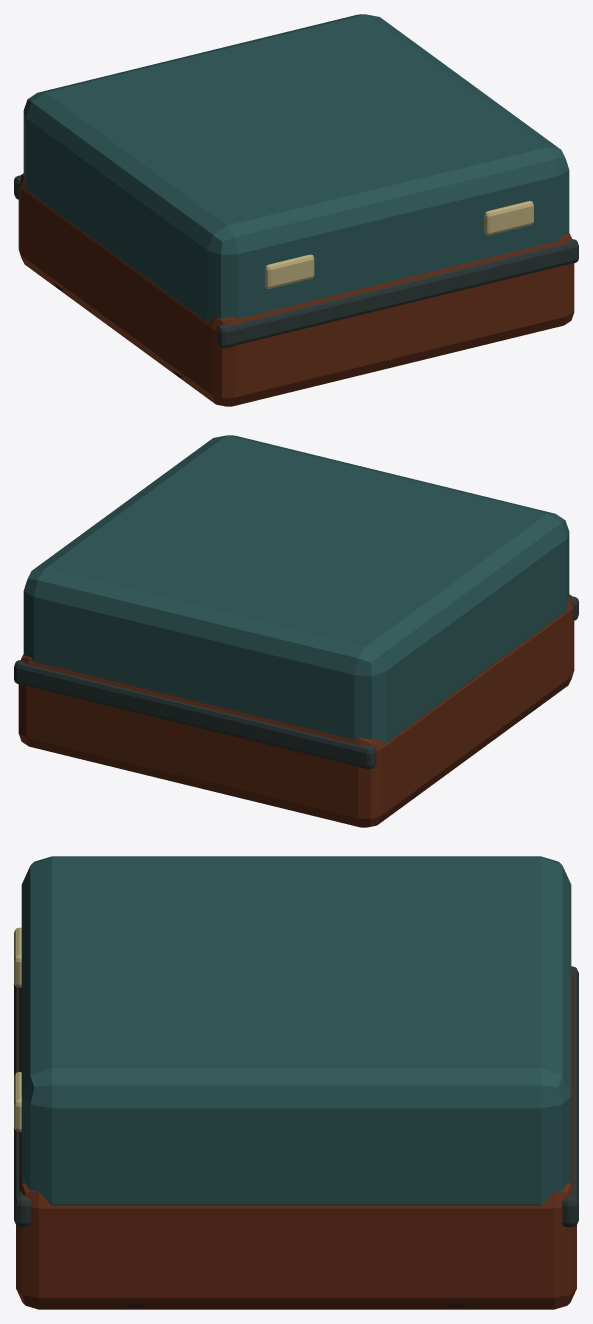
File: parking_wreck.glb
3 renders of one model, top to bottom at view 1: azimuth 30°, elevation 25°; view 2: azimuth 150°, elevation 25°; view 3: azimuth 270°, elevation 25°, orthographic. The views are drawn at different scales.
Visible parts, largest first — view 1: parking_wreck; view 2: parking_wreck; view 3: parking_wreck.
Boxes of the visible parts, x1,y1,x2,y2 form: parking_wreck: (14, 14, 578, 406); parking_wreck: (14, 435, 578, 827); parking_wreck: (14, 856, 578, 1309).
Bounding box in the file's own units: 2.96 × 1.38 × 2.98.
